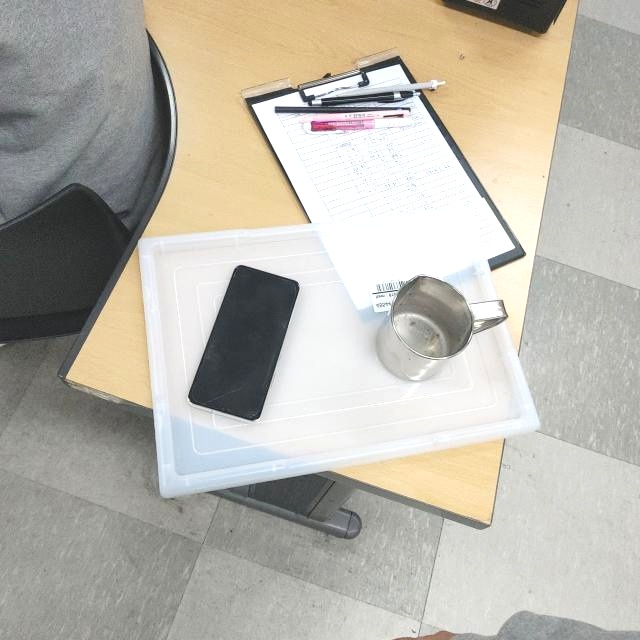cup: (372, 270, 509, 385)
phone: (186, 263, 302, 423)
